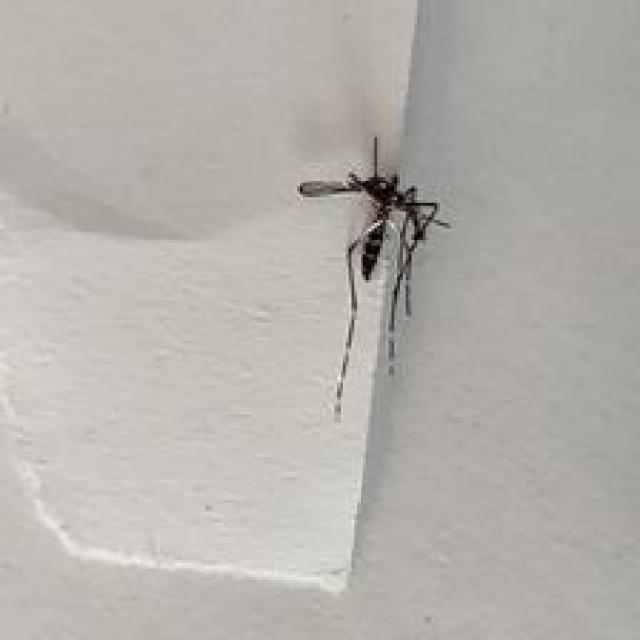Aedes albopictus: (296, 134, 450, 417)
